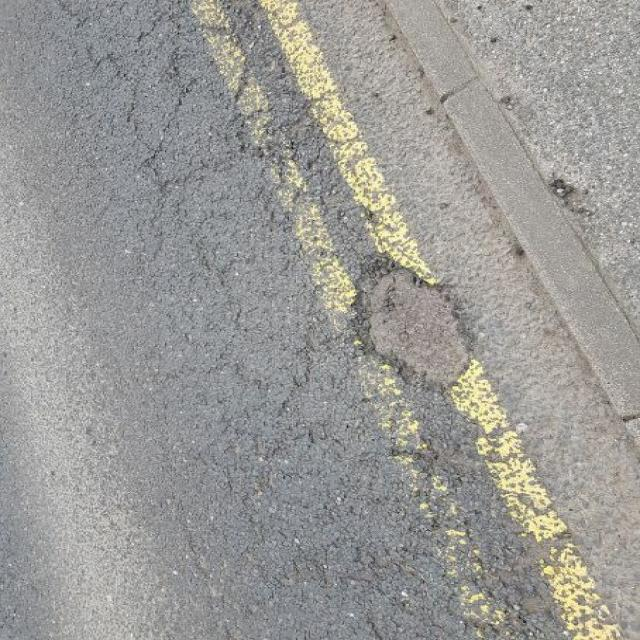pothole: (342, 248, 482, 390)
